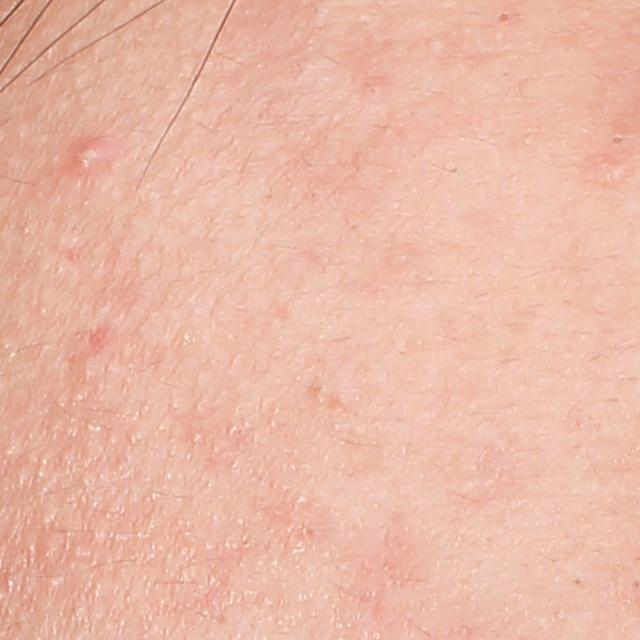comedo: (609, 132, 627, 146), (496, 12, 510, 24)
